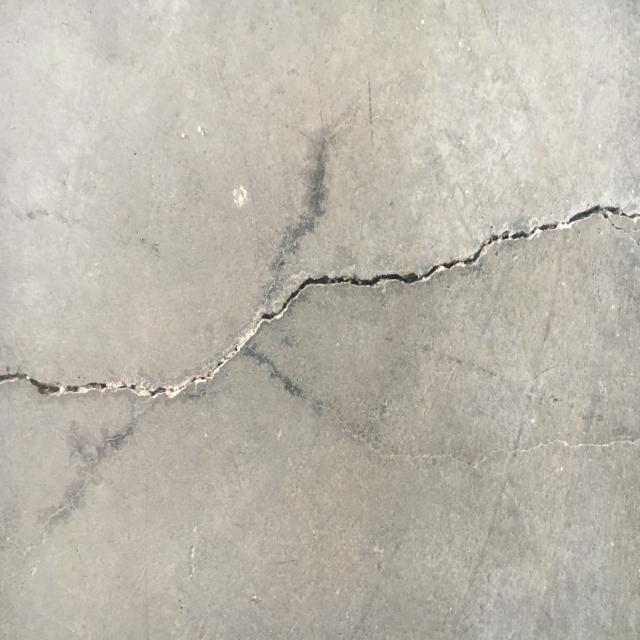Rachadura: (0, 199, 640, 406)
